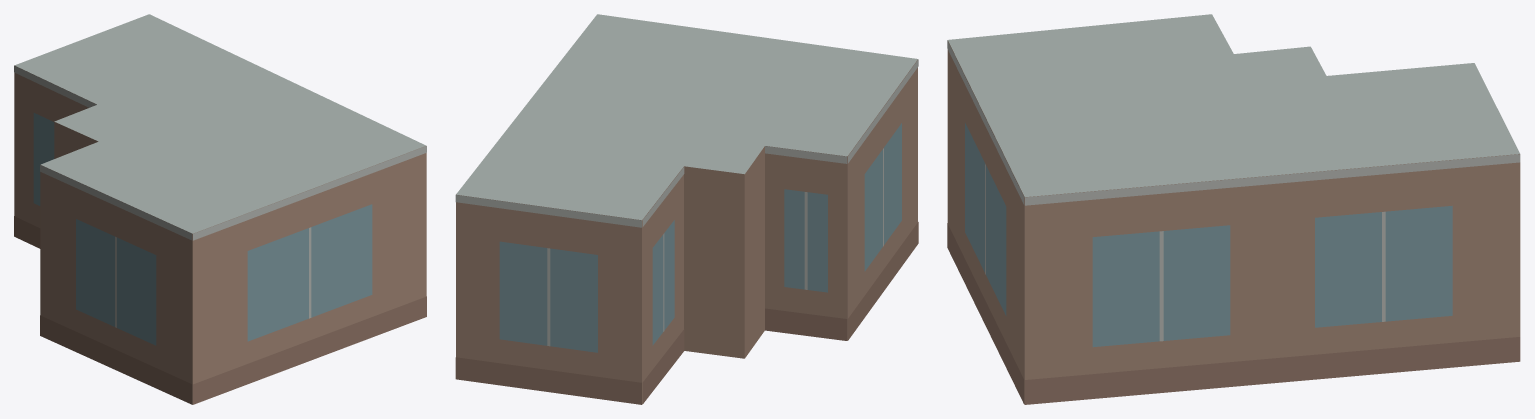
File: survey-upis-32819691.glb
The picture shows the model from 3 angles, left to right: view 1: azimuth 30°, elevation 25°; view 2: azimuth 150°, elevation 25°; view 3: azimuth 270°, elevation 25°; orthographic projection. The views are drawn at different scales.
Parts seen in each view (by area): view 1: survey-upis-32819691.tmp; view 2: survey-upis-32819691.tmp; view 3: survey-upis-32819691.tmp.
Boxes of the visible parts, left/top/right/bottom form: survey-upis-32819691.tmp: left=14, top=14, right=426, bottom=404; survey-upis-32819691.tmp: left=455, top=14, right=918, bottom=404; survey-upis-32819691.tmp: left=947, top=14, right=1520, bottom=404.
Size of the model in its own units: 5.78 by 3.05 by 7.64.
